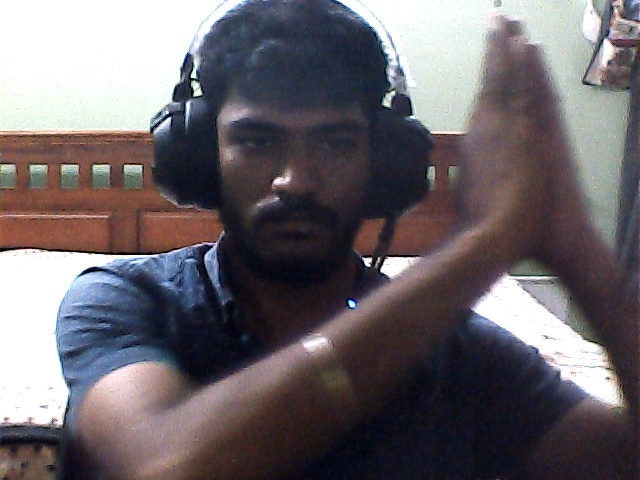Sign: (459, 16, 608, 246)
